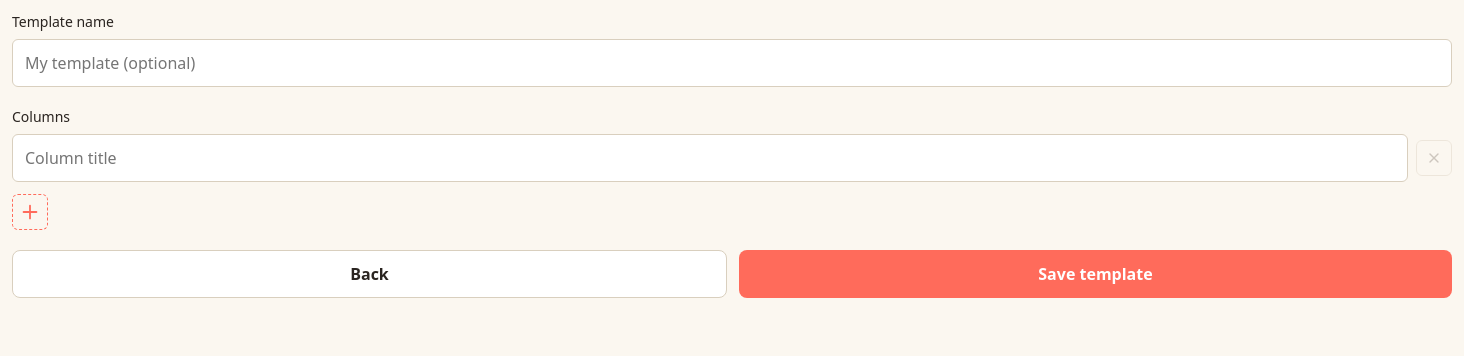
ColumnEditor › blocks save when every row is empty
Click the button "Save template" at (1096, 274), box [739, 250, 1452, 298]
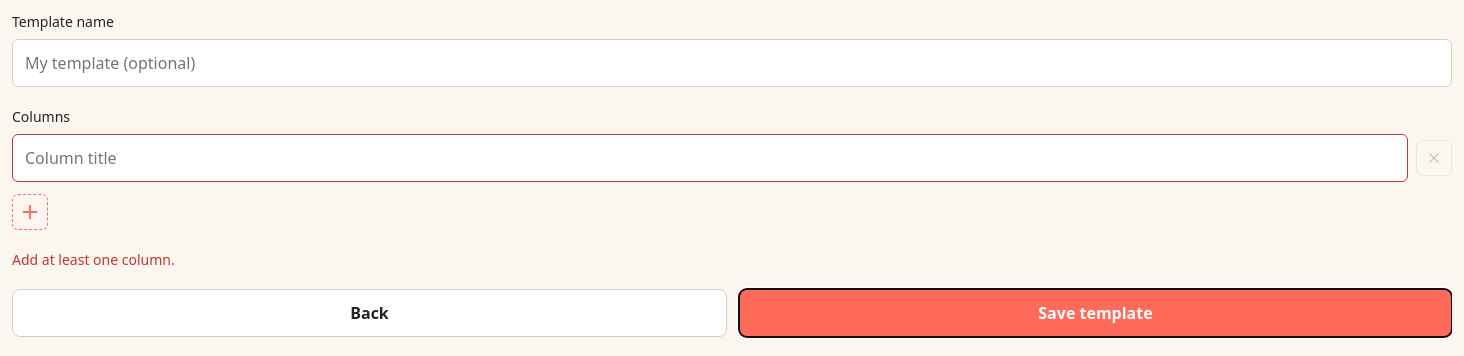
expect the message "Add at least one column." is shown: met, box [12, 250, 175, 269]
